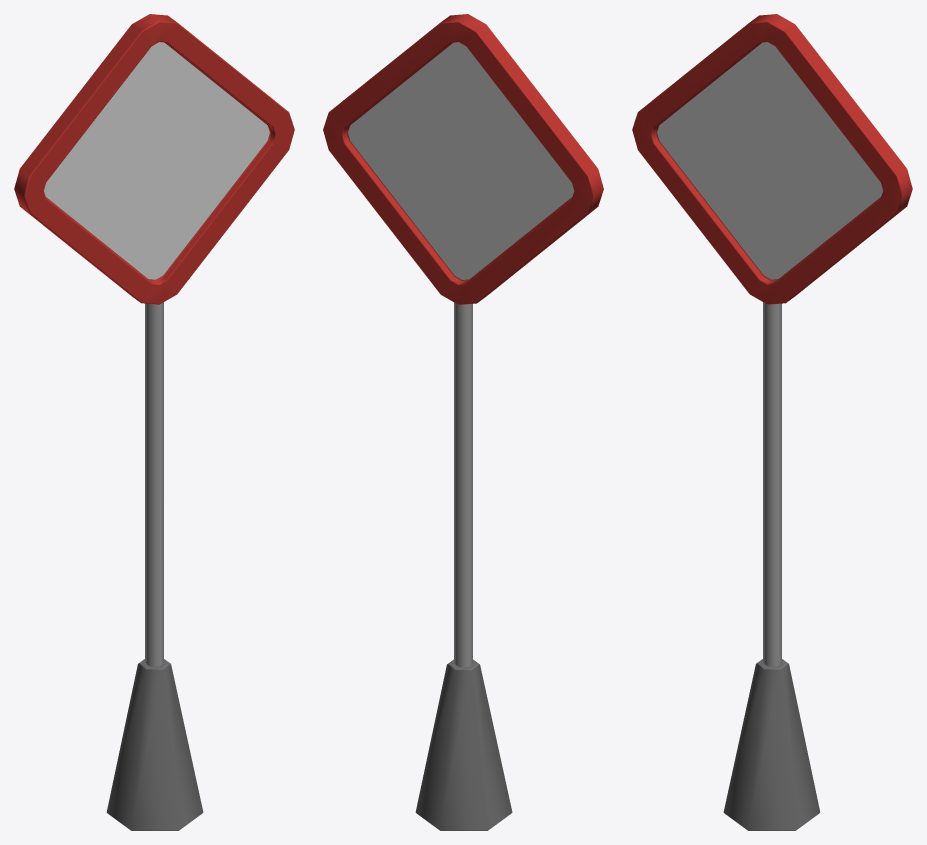
3 renders of one model, left to right at view 1: azimuth 30°, elevation 25°; view 2: azimuth 150°, elevation 25°; view 3: azimuth 330°, elevation 25°, orthographic.
Visible parts, largest first — view 1: Plane.002; view 2: Plane.002; view 3: Plane.002.
Part boxes in pixels (left/top/right/bottom): Plane.002: left=14, top=14, right=294, bottom=830; Plane.002: left=323, top=14, right=603, bottom=830; Plane.002: left=632, top=14, right=912, bottom=830.
Bounding box in the file's own units: 121 × 338 × 37.33.
